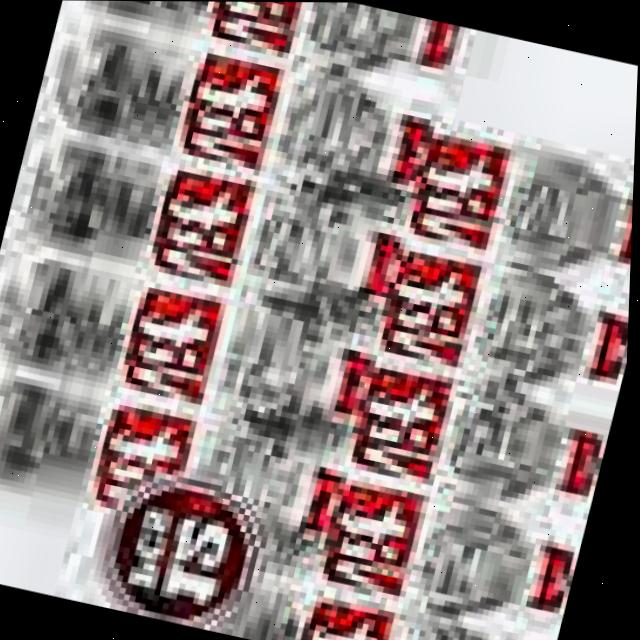plastic: (198, 311, 623, 548), (0, 357, 371, 608), (247, 205, 634, 435), (7, 241, 408, 458), (174, 435, 592, 640), (27, 126, 432, 336), (263, 89, 637, 301), (55, 34, 444, 205), (87, 1, 471, 106), (184, 551, 565, 640)
